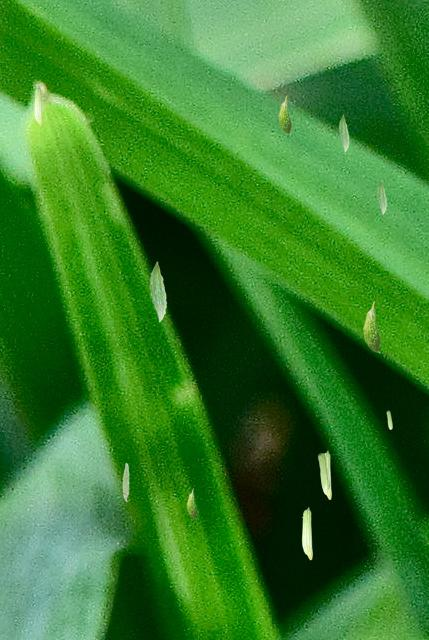ampalaya: (149, 261, 167, 322), (362, 301, 381, 353), (301, 506, 313, 560), (321, 450, 332, 500), (278, 95, 292, 134), (317, 452, 330, 490), (338, 114, 349, 152), (376, 180, 387, 215), (186, 488, 197, 519), (34, 86, 42, 126), (122, 462, 129, 502), (386, 410, 393, 429)
